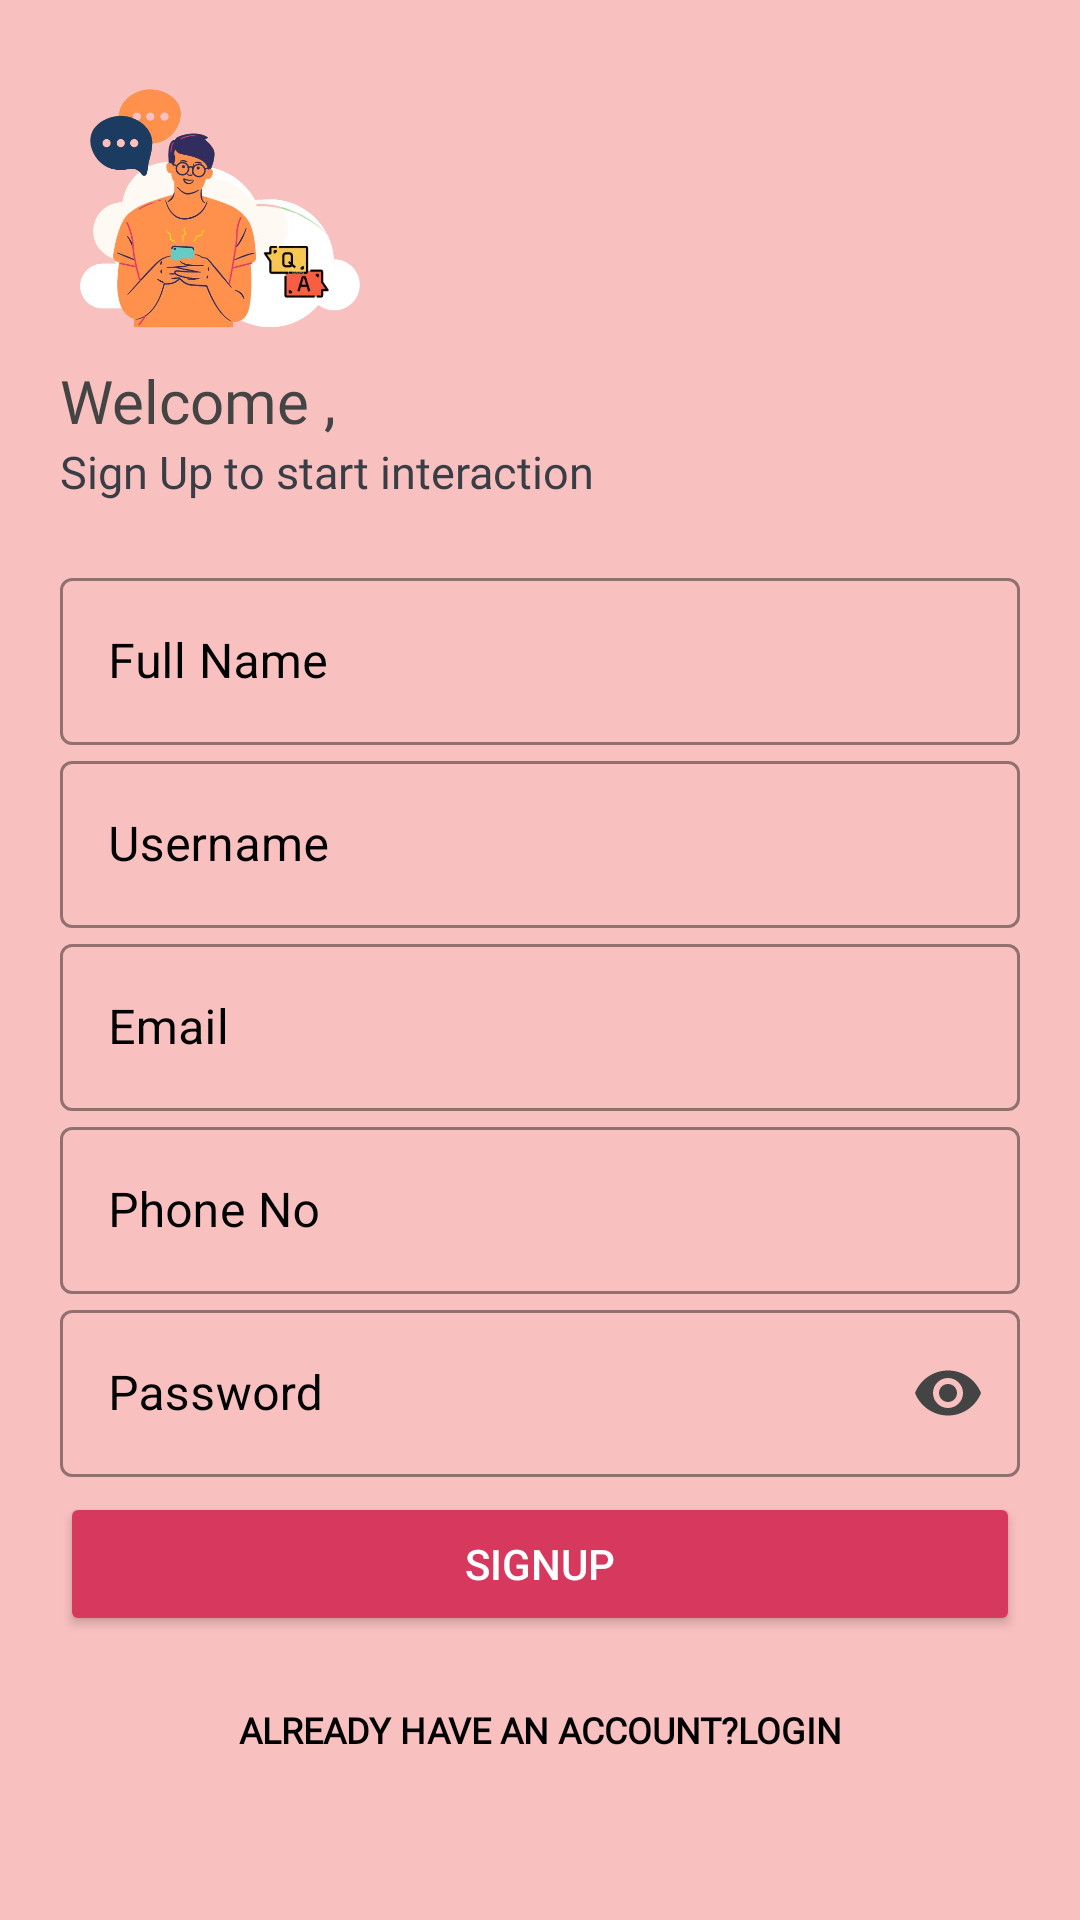

Named icons in this screenshot (1080 × 1920) and their bounding boxes, (x1, y1, x2, y2):
boy: (80, 89, 360, 327)
